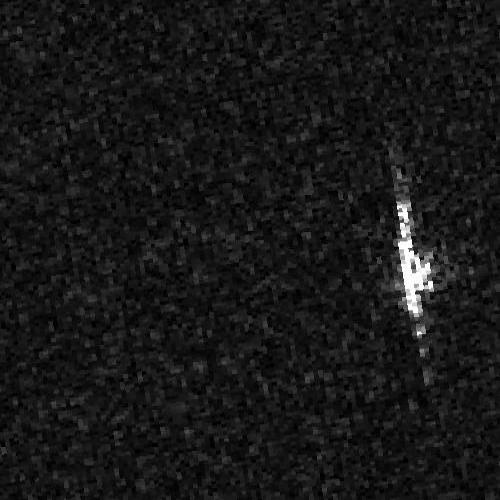ship: (392, 166, 434, 362)
